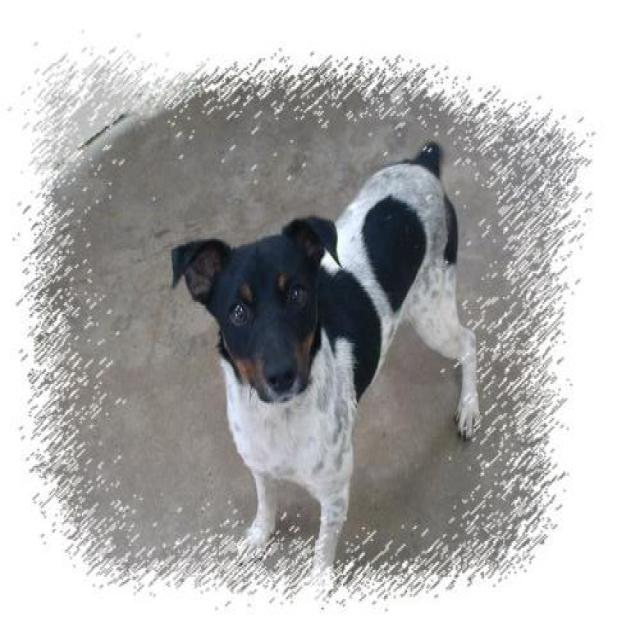Dogs: (169, 138, 481, 589)
